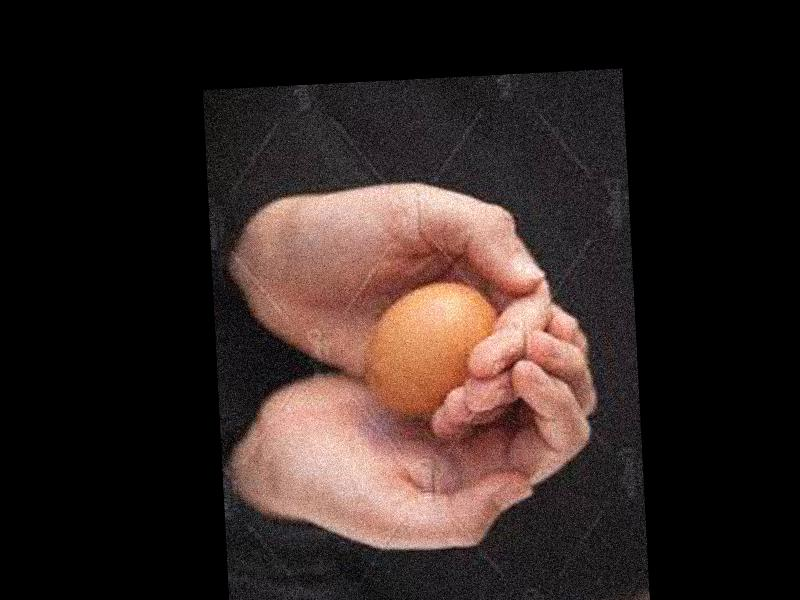Eggs: (360, 279, 498, 424)
